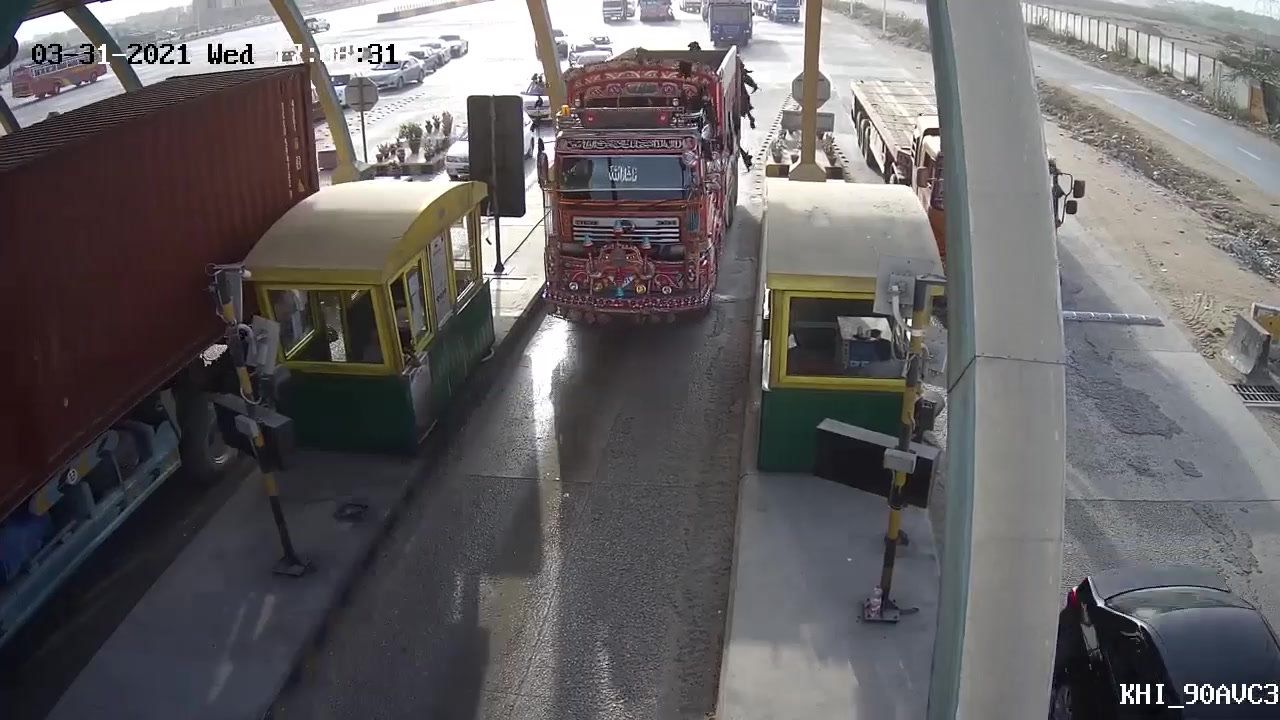F5: (521, 48, 752, 342)
